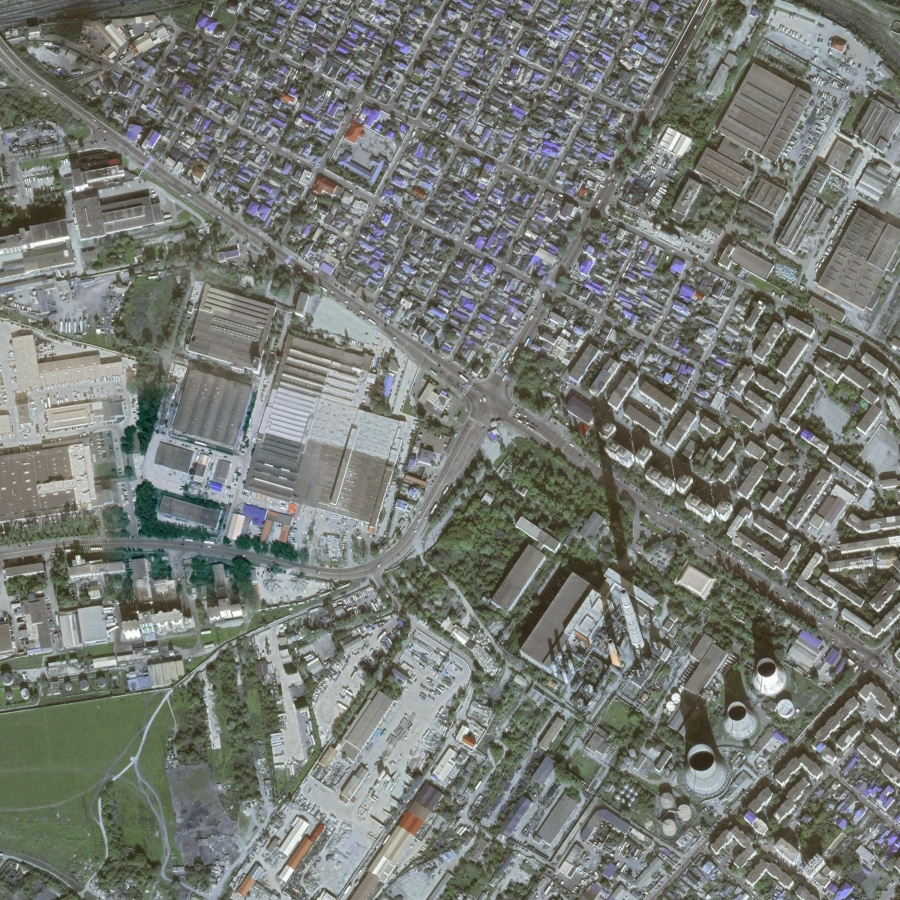PowerPlant: (527, 479, 813, 823)
